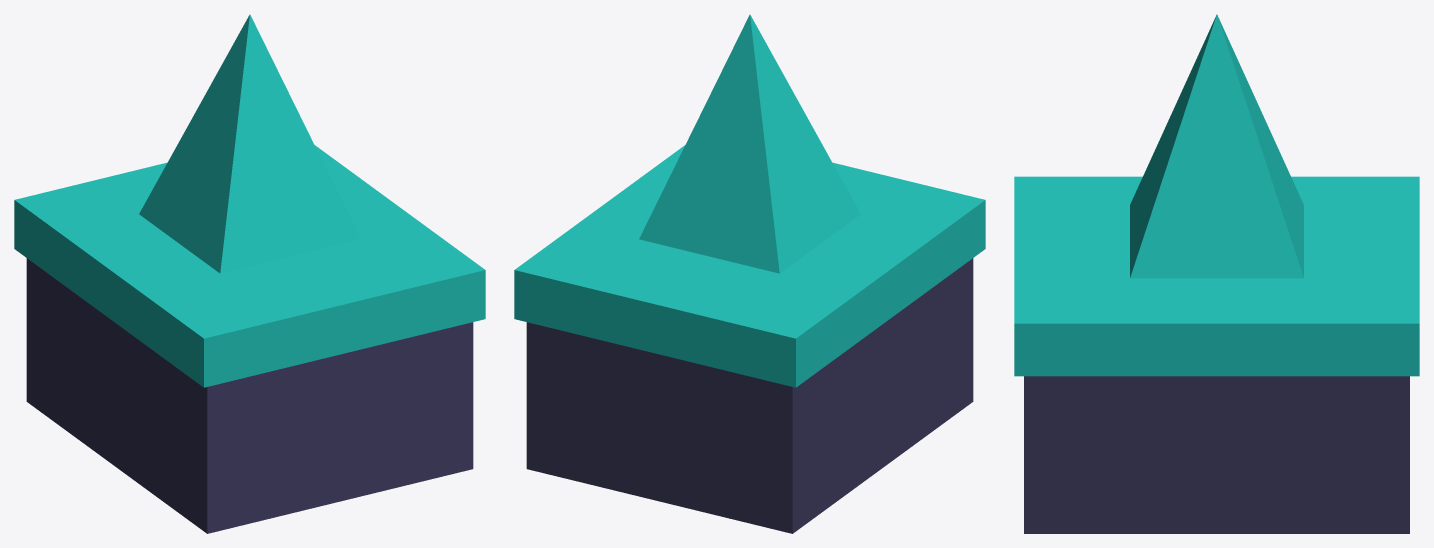
The model's file is shoulder-2.obj.
3 views of the same model, side by side, from view 1: azimuth 30°, elevation 25°; view 2: azimuth 150°, elevation 25°; view 3: azimuth 270°, elevation 25° (orthographic). The views are drawn at different scales.
Bounding box in the file's own units: 0.36 × 0.515 × 0.42.
